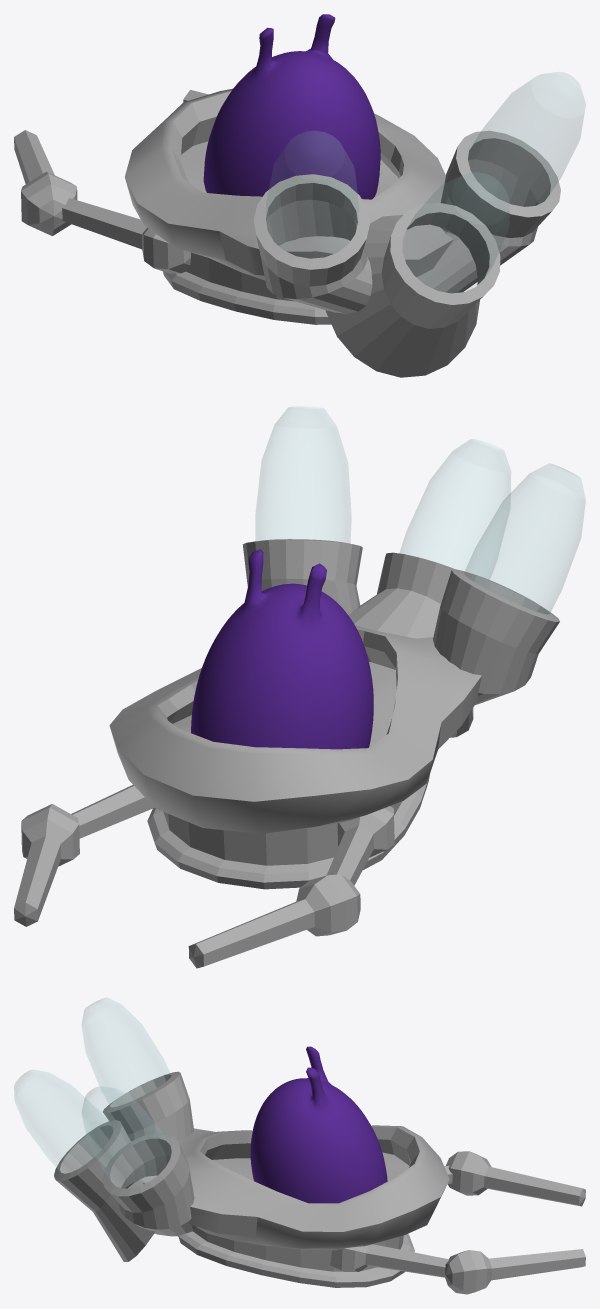
The model's file is Player_PH.fbx.
3 renders of one model, top to bottom at view 1: azimuth 30°, elevation 25°; view 2: azimuth 150°, elevation 25°; view 3: azimuth 270°, elevation 25°, orthographic. The views are drawn at different scales.
Parts seen in each view (by area): view 1: pSphere11, Alain, pSphere13, pSphere12; view 2: pSphere11, Alain, pSphere13 (×2), pSphere12, pSphere14; view 3: pSphere11, Alain, pSphere13 (×2), pSphere14.
Part boxes in pixels (left/top/right/bottom): pSphere11: left=125, top=72, right=585, bottom=377; Alain: left=203, top=14, right=380, bottom=199; pSphere13: left=14, top=130, right=77, bottom=235; pSphere12: left=62, top=198, right=190, bottom=273; pSphere11: left=109, top=406, right=585, bottom=889; Alain: left=191, top=549, right=373, bottom=749; pSphere13 (×2): left=14, top=804, right=360, bottom=968; pSphere12: left=326, top=806, right=394, bottom=885; pSphere14: left=71, top=785, right=154, bottom=838; pSphere11: left=14, top=998, right=449, bottom=1287; Alain: left=250, top=1046, right=387, bottom=1203; pSphere13 (×2): left=444, top=1151, right=585, bottom=1294; pSphere14: left=330, top=1244, right=448, bottom=1277.
Size of the model in its own units: 4.15 by 3.55 by 8.56.
